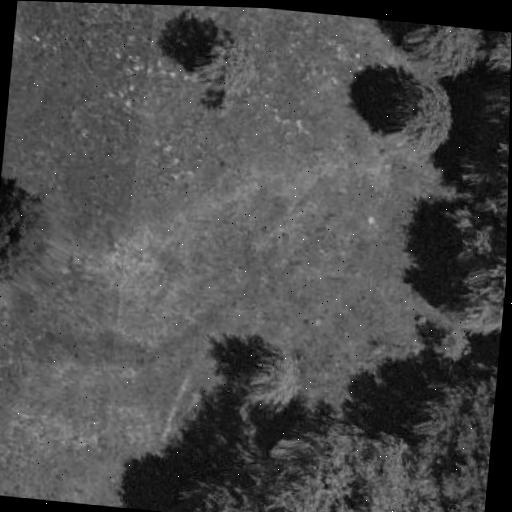tree-top: (177, 414, 454, 512), (399, 364, 498, 512), (183, 25, 280, 116), (365, 71, 462, 158), (0, 169, 61, 294), (221, 336, 307, 419), (458, 114, 510, 225), (443, 243, 507, 330), (420, 202, 497, 274), (397, 21, 487, 80), (409, 306, 482, 369), (483, 29, 512, 70), (494, 67, 511, 116), (446, 508, 484, 512)
